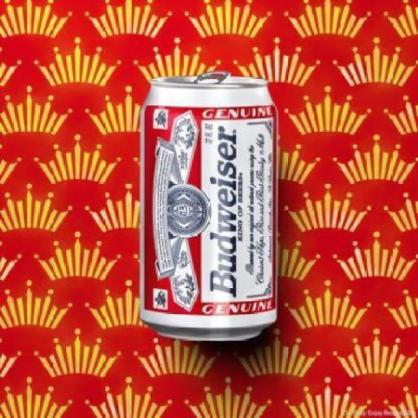can: (140, 74, 279, 341)
